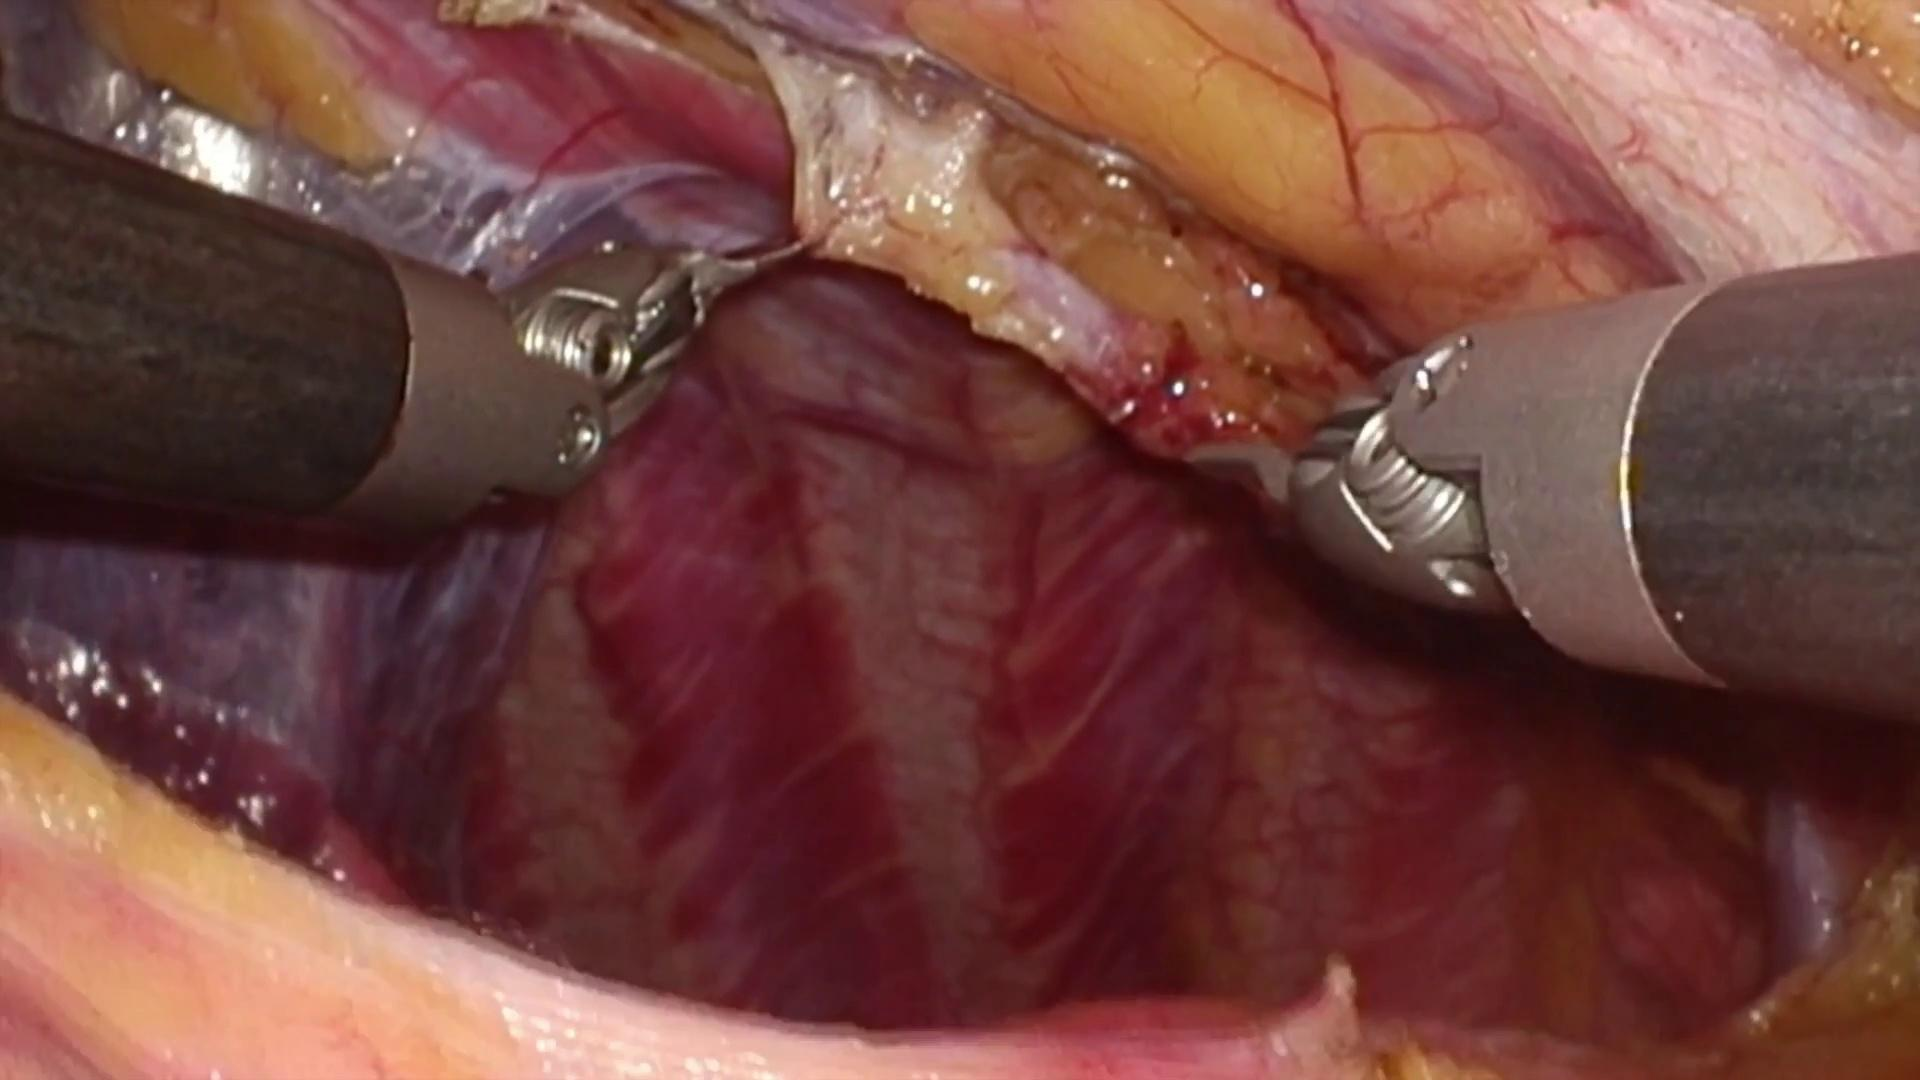Debakey: (665, 208, 819, 340)
clipper: (1182, 430, 1441, 584)
